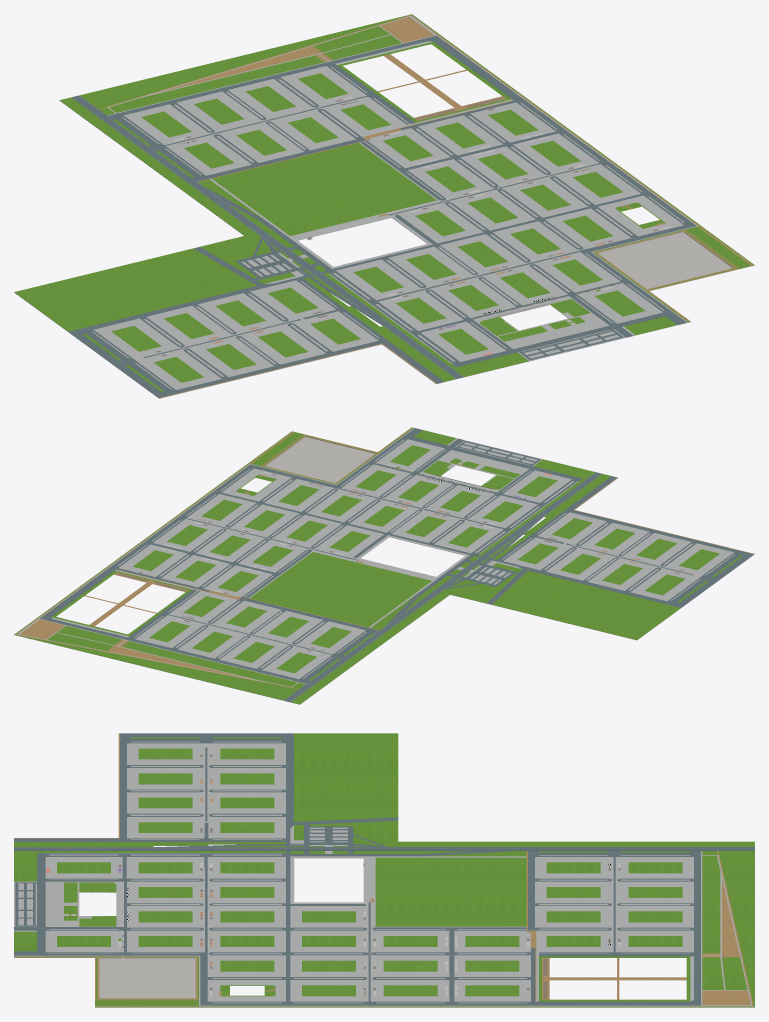
3 renders of one model, top to bottom at view 1: azimuth 30°, elevation 25°; view 2: azimuth 150°, elevation 25°; view 3: azimuth 270°, elevation 25°, orthographic. The views are drawn at different scales.
Parts seen in each view (by area): view 1: Group1; view 2: Group1; view 3: Group1.
Part boxes in pixels (<box>): Group1: <box>14,14,754,398</box>; Group1: <box>14,427,754,704</box>; Group1: <box>14,733,754,1007</box>.
Bounding box in the file's own units: 1010 × 4.98 × 1154.
17 materials, 12 textured.
